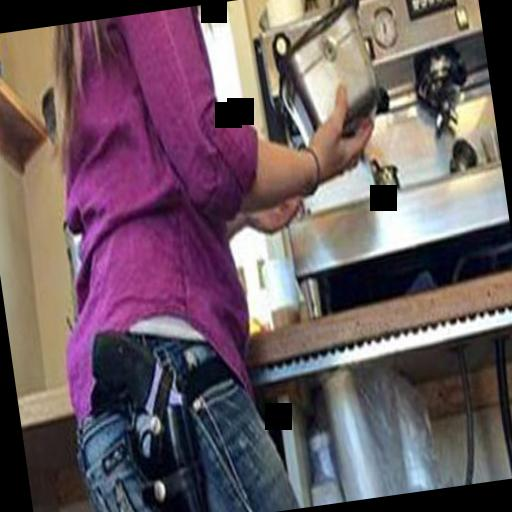Handgun: (80, 320, 217, 512)
